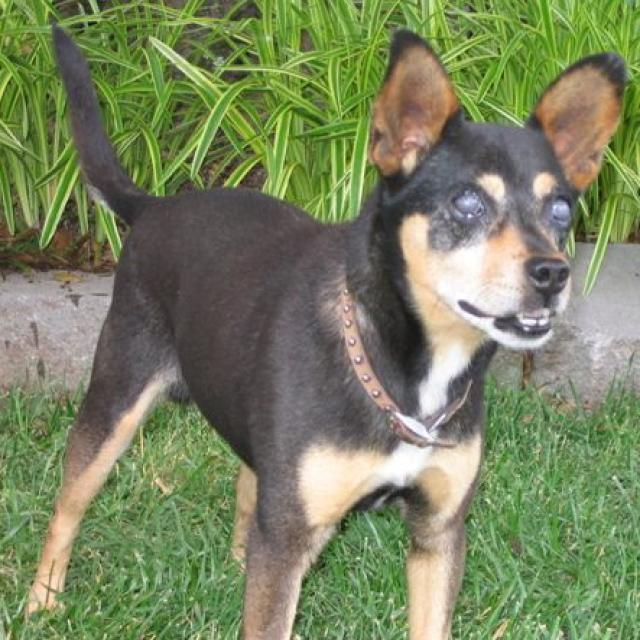Dogs: (19, 19, 627, 638)
